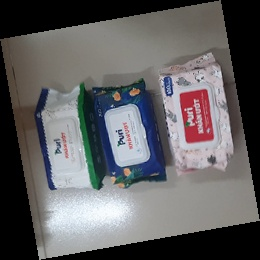Puri Trang: (32, 81, 107, 192)
Puri Xanh: (91, 76, 168, 192)
Puri hong: (153, 51, 236, 178)
